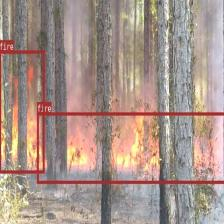fire: (36, 112, 224, 183), (0, 50, 44, 173)
